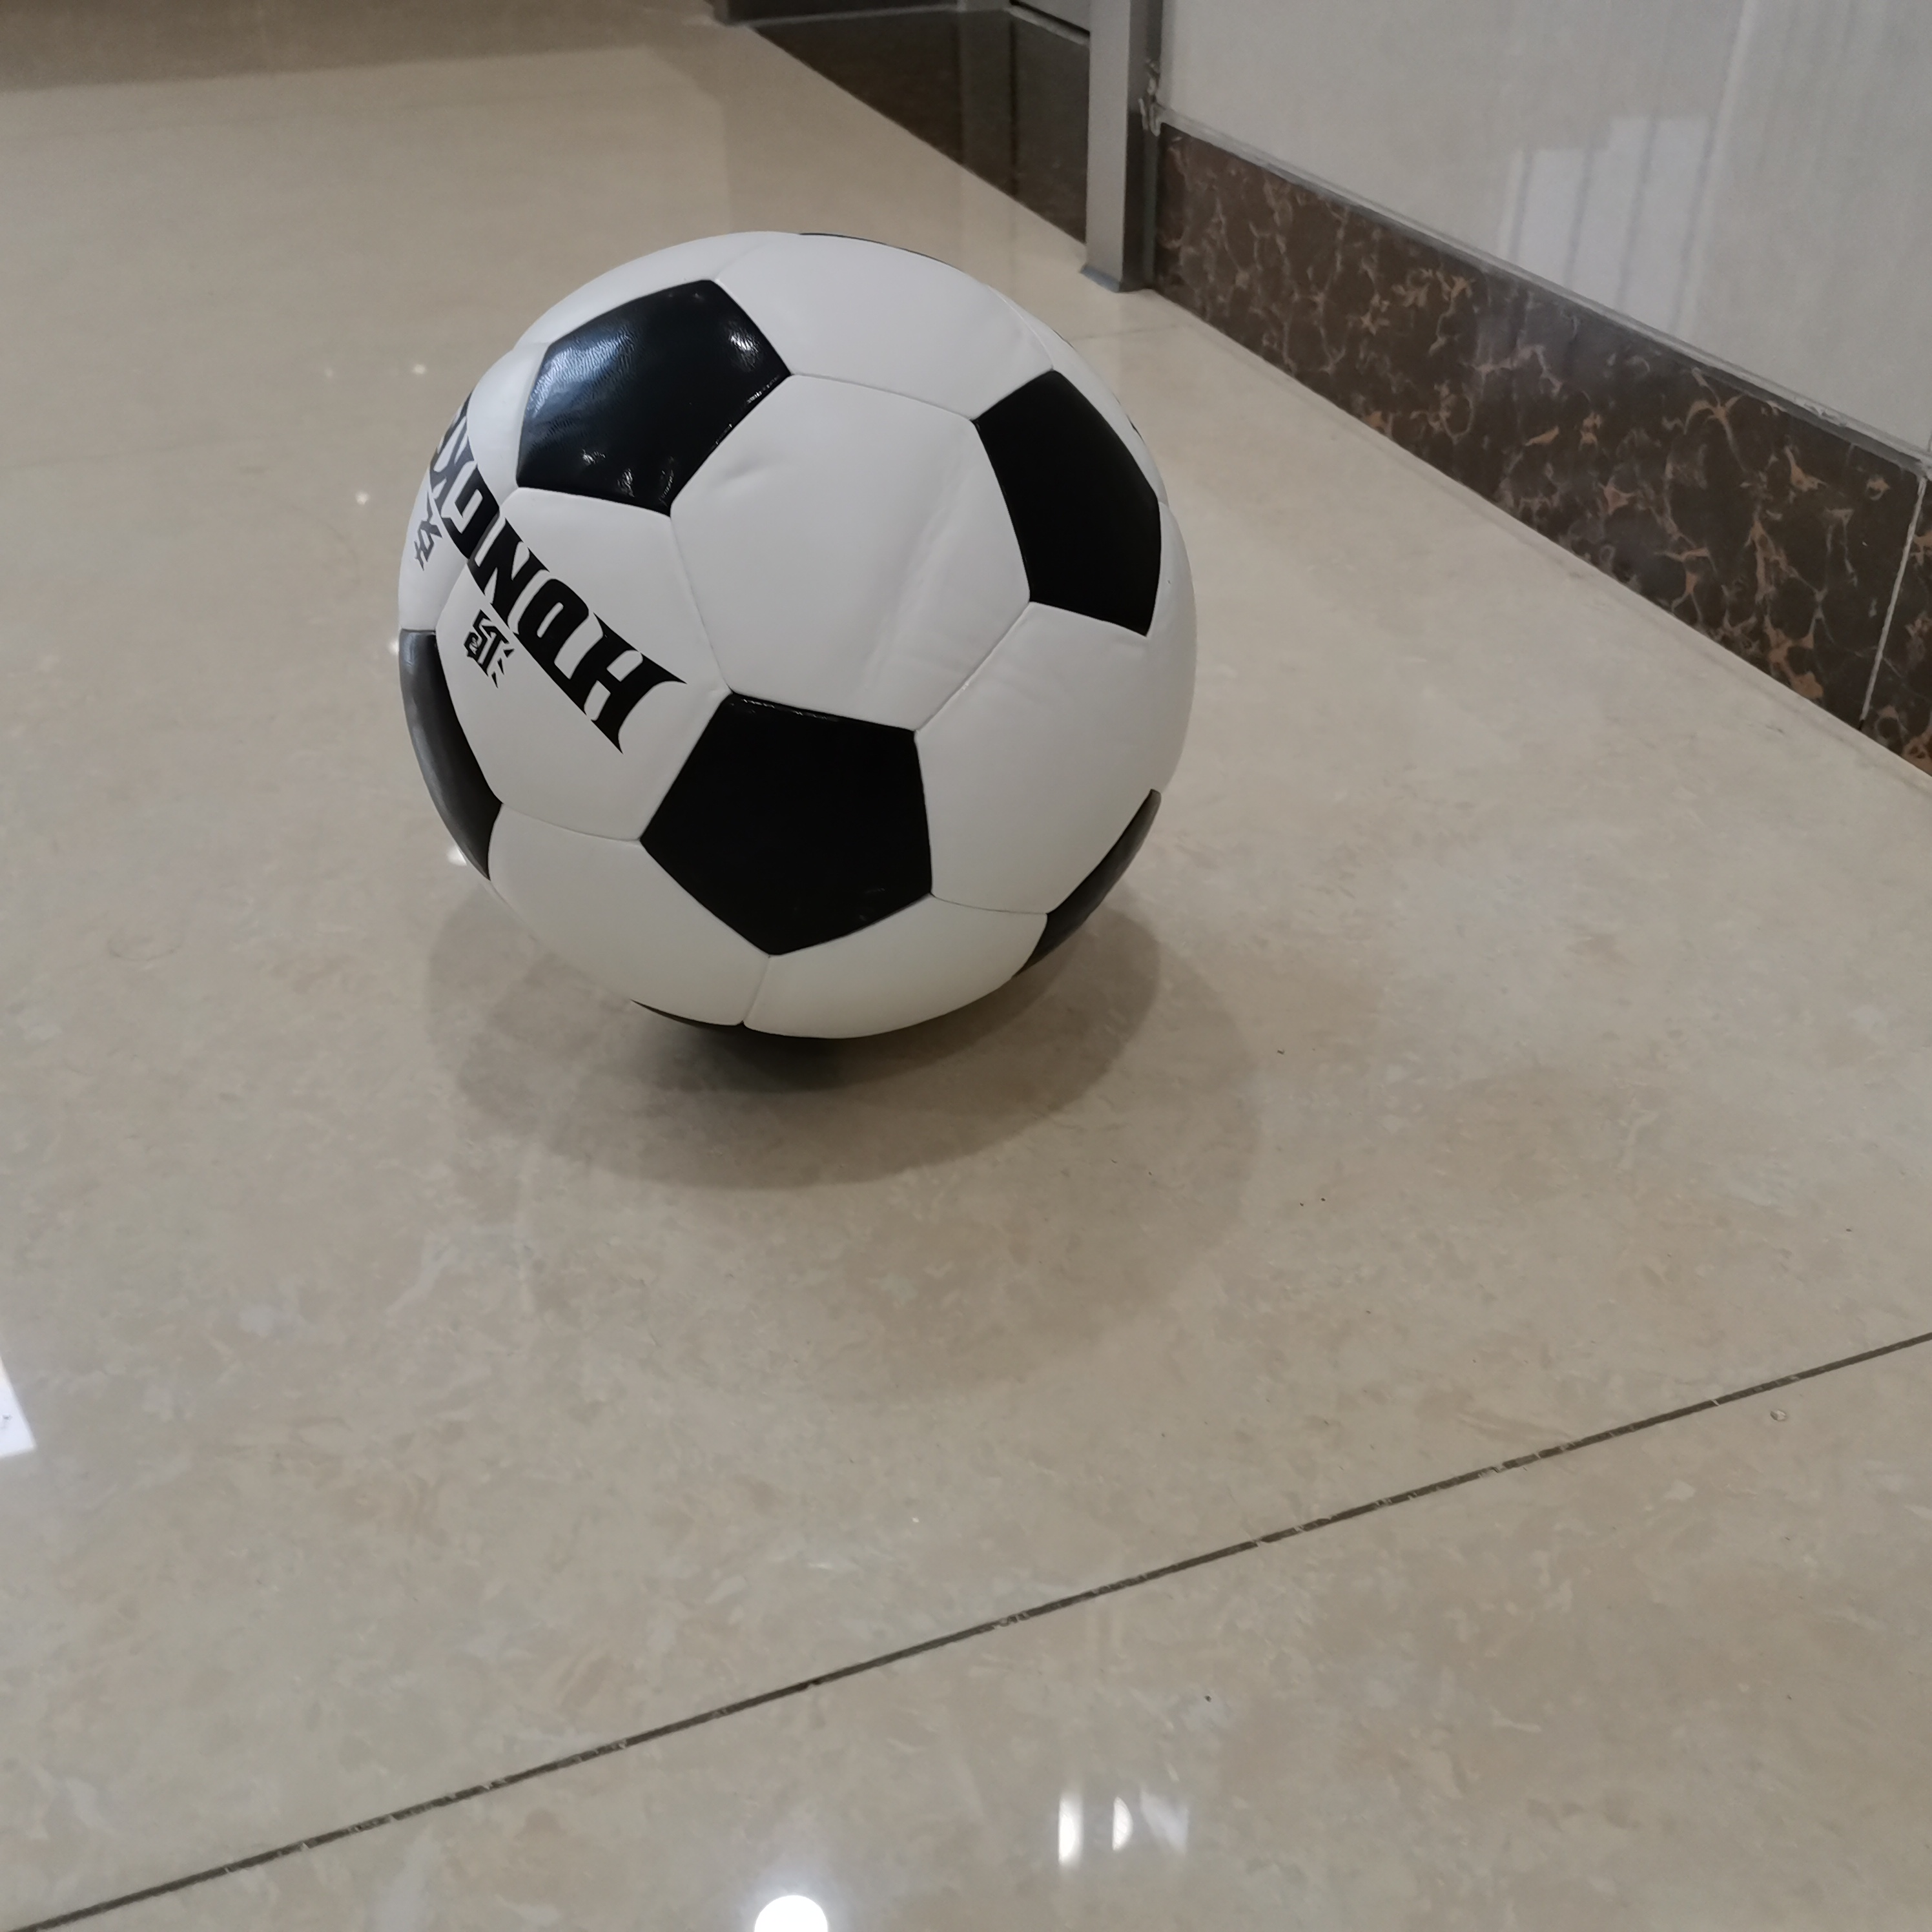football: (395, 237, 1200, 1046)
